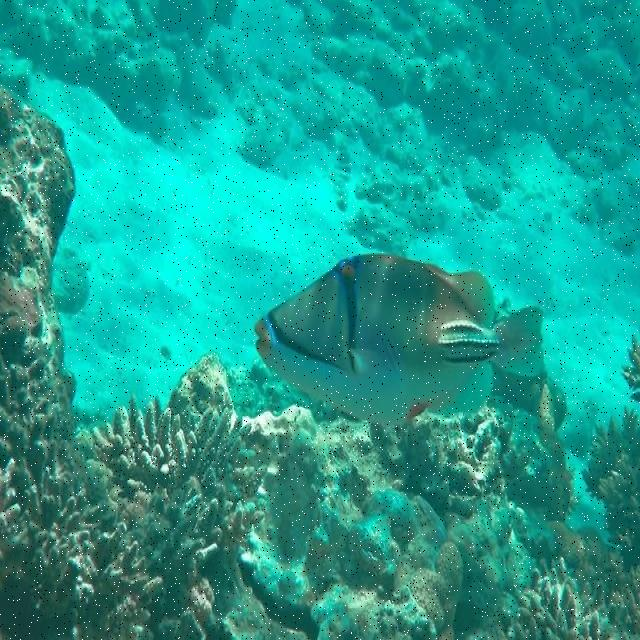fish: (252, 253, 547, 424)
reefs: (0, 86, 639, 639)
